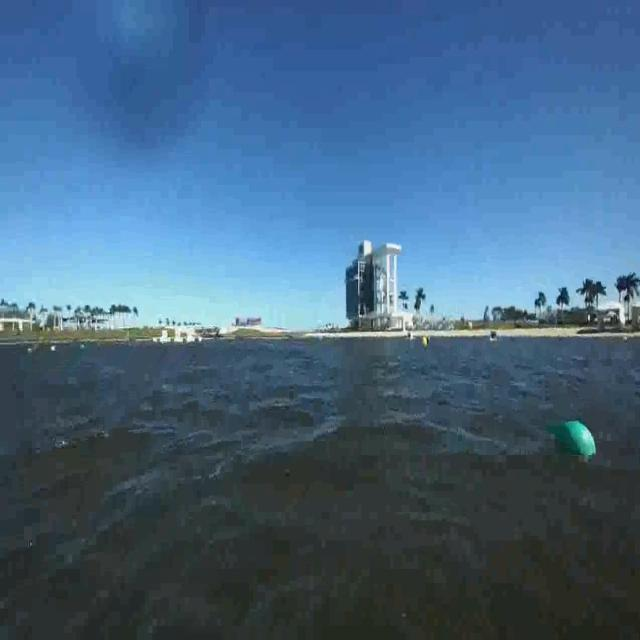green-buoy: (552, 421, 595, 457)
yellow-buoy: (422, 336, 430, 350)
